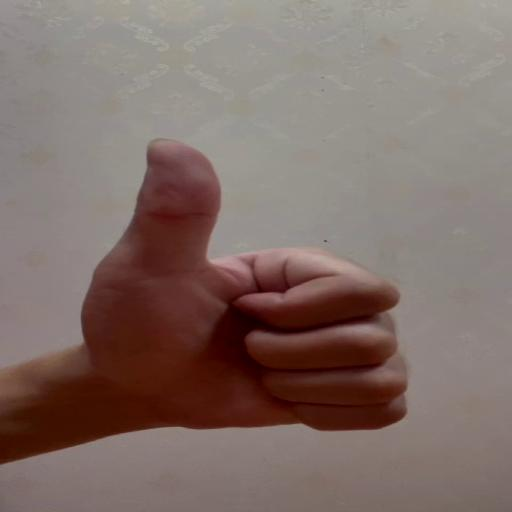thumbs_up: (78, 137, 414, 430)
